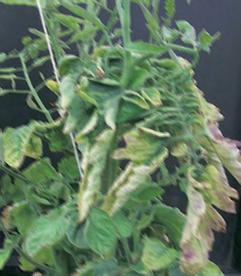Tomato leaf yellow virus: (100, 129, 168, 216), (2, 114, 40, 178), (26, 201, 67, 257), (82, 205, 119, 257), (136, 238, 176, 273), (1, 0, 50, 15)
